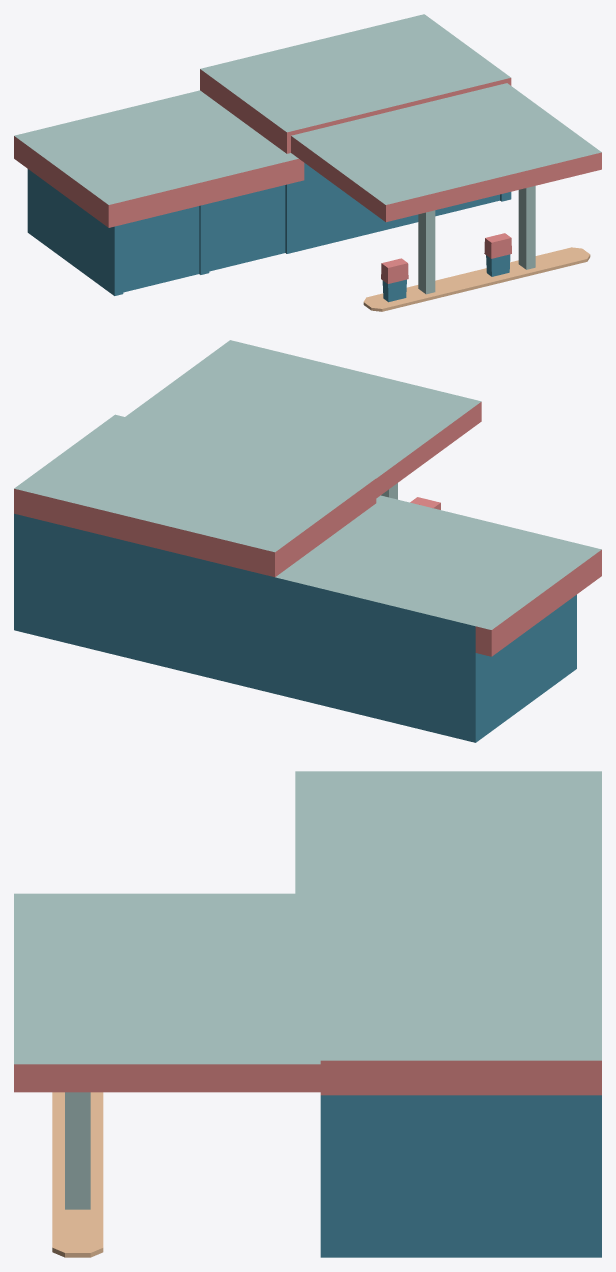
Rendered from gas station.glb.
3 renders of one model, top to bottom at view 1: azimuth 30°, elevation 25°; view 2: azimuth 150°, elevation 25°; view 3: azimuth 270°, elevation 25°, orthographic. The views are drawn at different scales.
Visible parts, largest first — view 1: building, piller, pump; view 2: building; view 3: building, piller.
Part boxes in pixels (x1,y1,x2,y2): building: (14,14,601,295); piller: (363,186,590,311); pump: (381,233,511,302); building: (14,340,601,742); building: (14,771,601,1257); piller: (52,1092,103,1257).
Size of what is drawn, in the model's own units: 28.8 by 8.16 by 22.08.
1 material, 1 textured.
